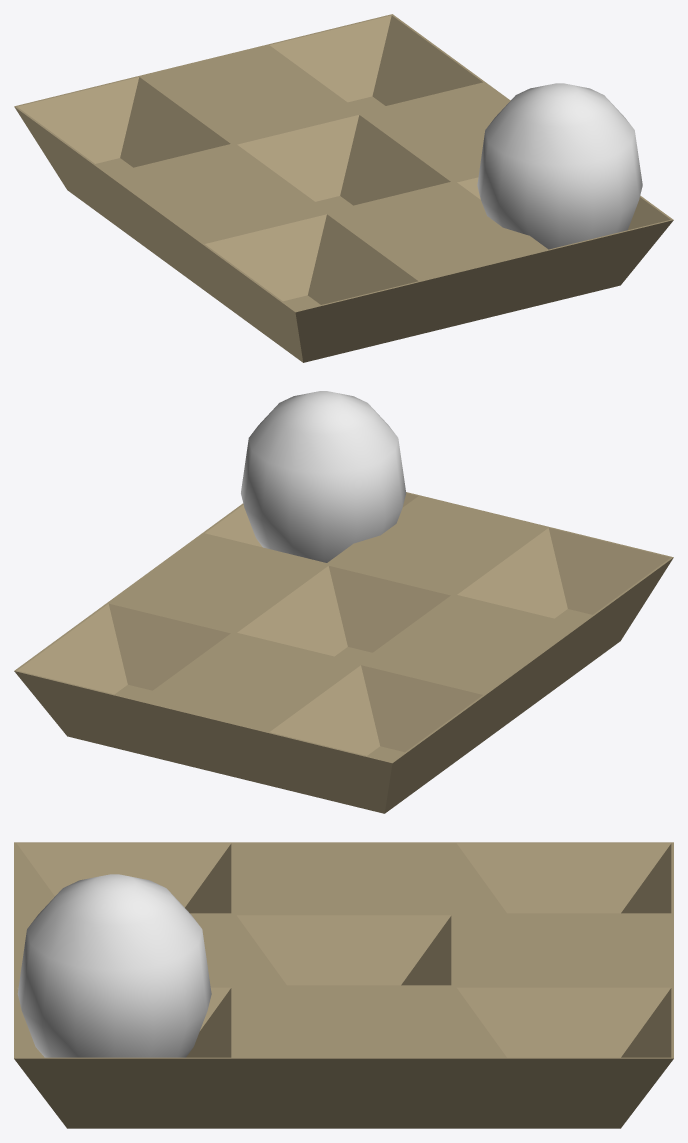
Rendered from eggs trays.fbx.
3 renders of one model, top to bottom at view 1: azimuth 30°, elevation 25°; view 2: azimuth 150°, elevation 25°; view 3: azimuth 270°, elevation 25°, orthographic. The views are drawn at different scales.
Visible parts, largest first — view 1: egg_tray2, pSphere4; view 2: egg_tray2, pSphere4; view 3: egg_tray2, pSphere4.
Part boxes in pixels (x1=…): egg_tray2: x1=14, y1=14, x2=673, y2=362; pSphere4: x1=477, y1=83, x2=642, y2=249; egg_tray2: x1=14, y1=492, x2=673, y2=813; pSphere4: x1=241, y1=391, x2=406, y2=562; egg_tray2: x1=14, y1=842, x2=673, y2=1128; pSphere4: x1=17, y1=874, x2=211, y2=1057.
Size of the model in its own units: 20.33 by 9.82 by 26.12.
